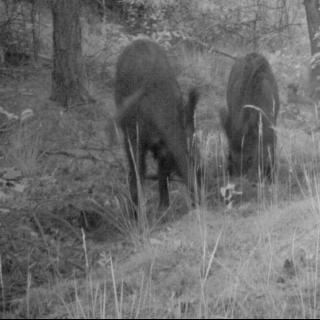Pig: (112, 34, 204, 213), (215, 48, 302, 219)
